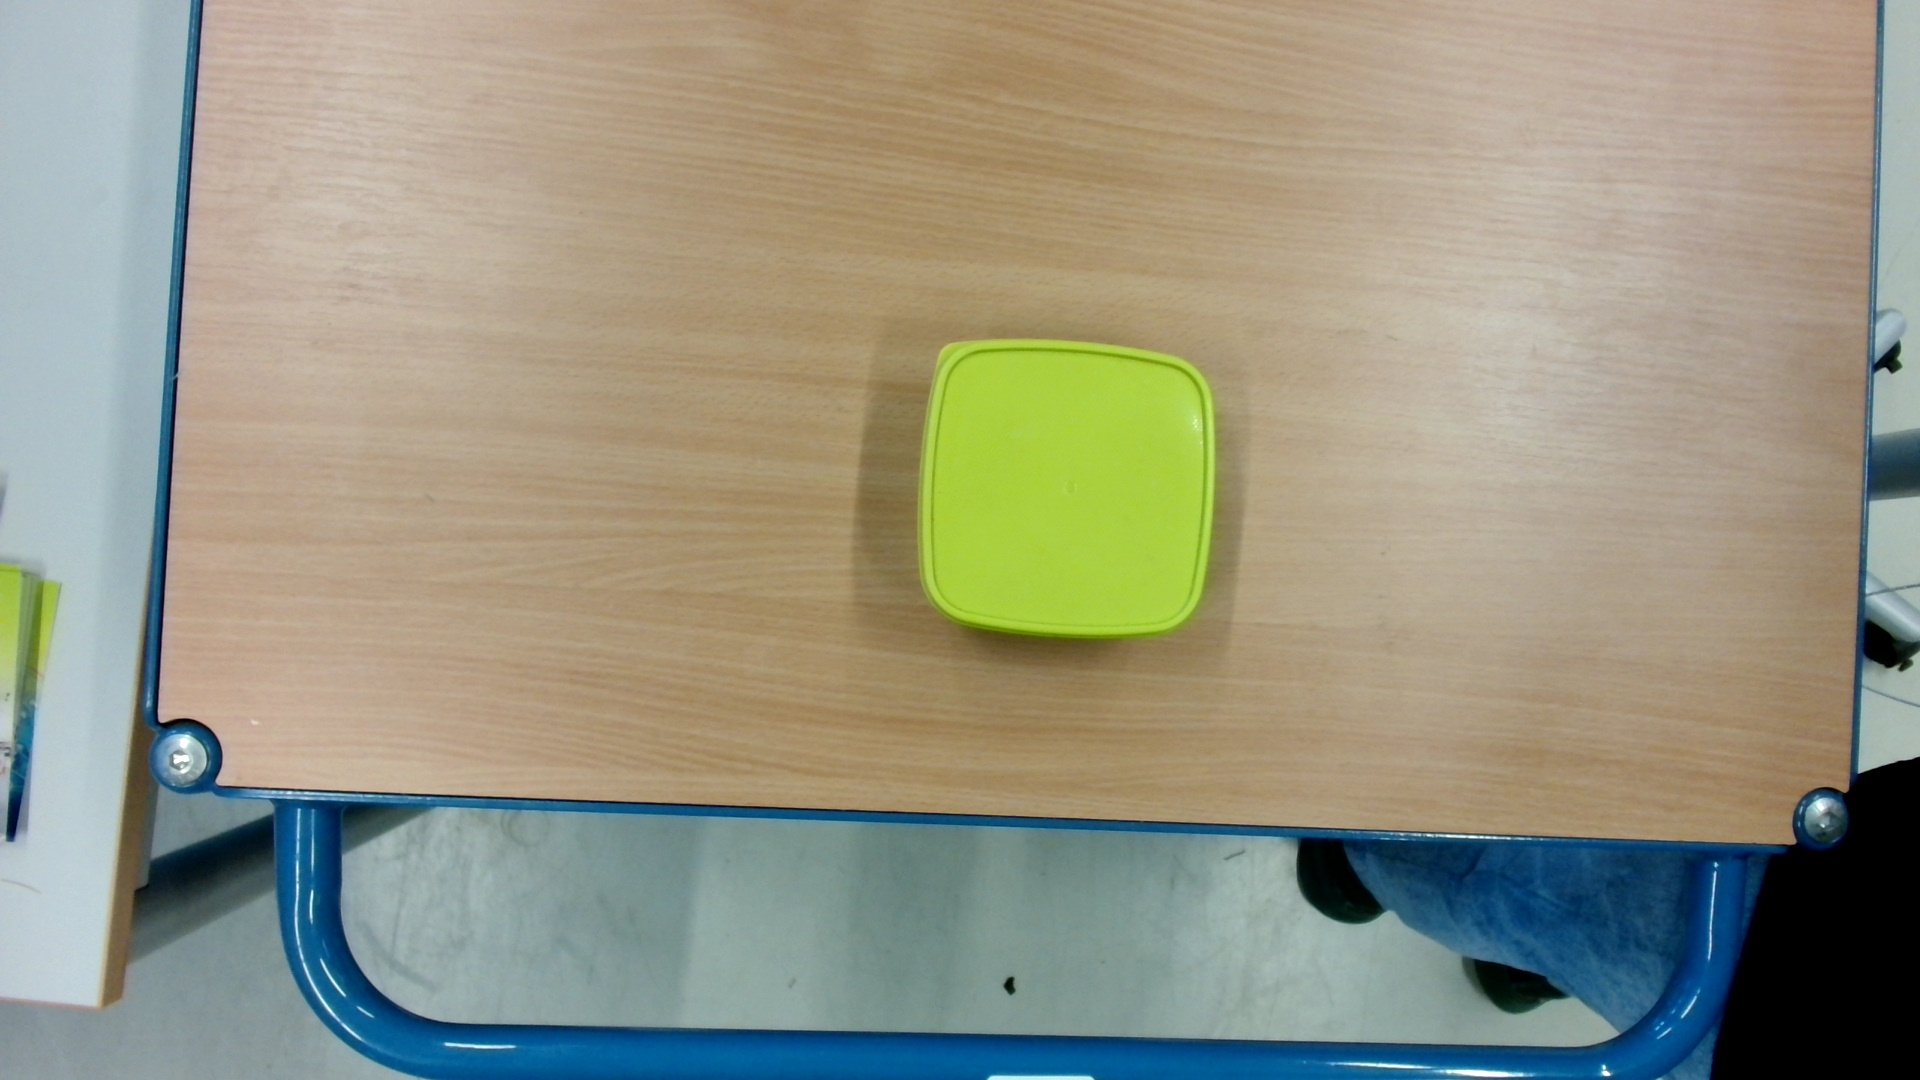Box: (910, 328, 1225, 659)
